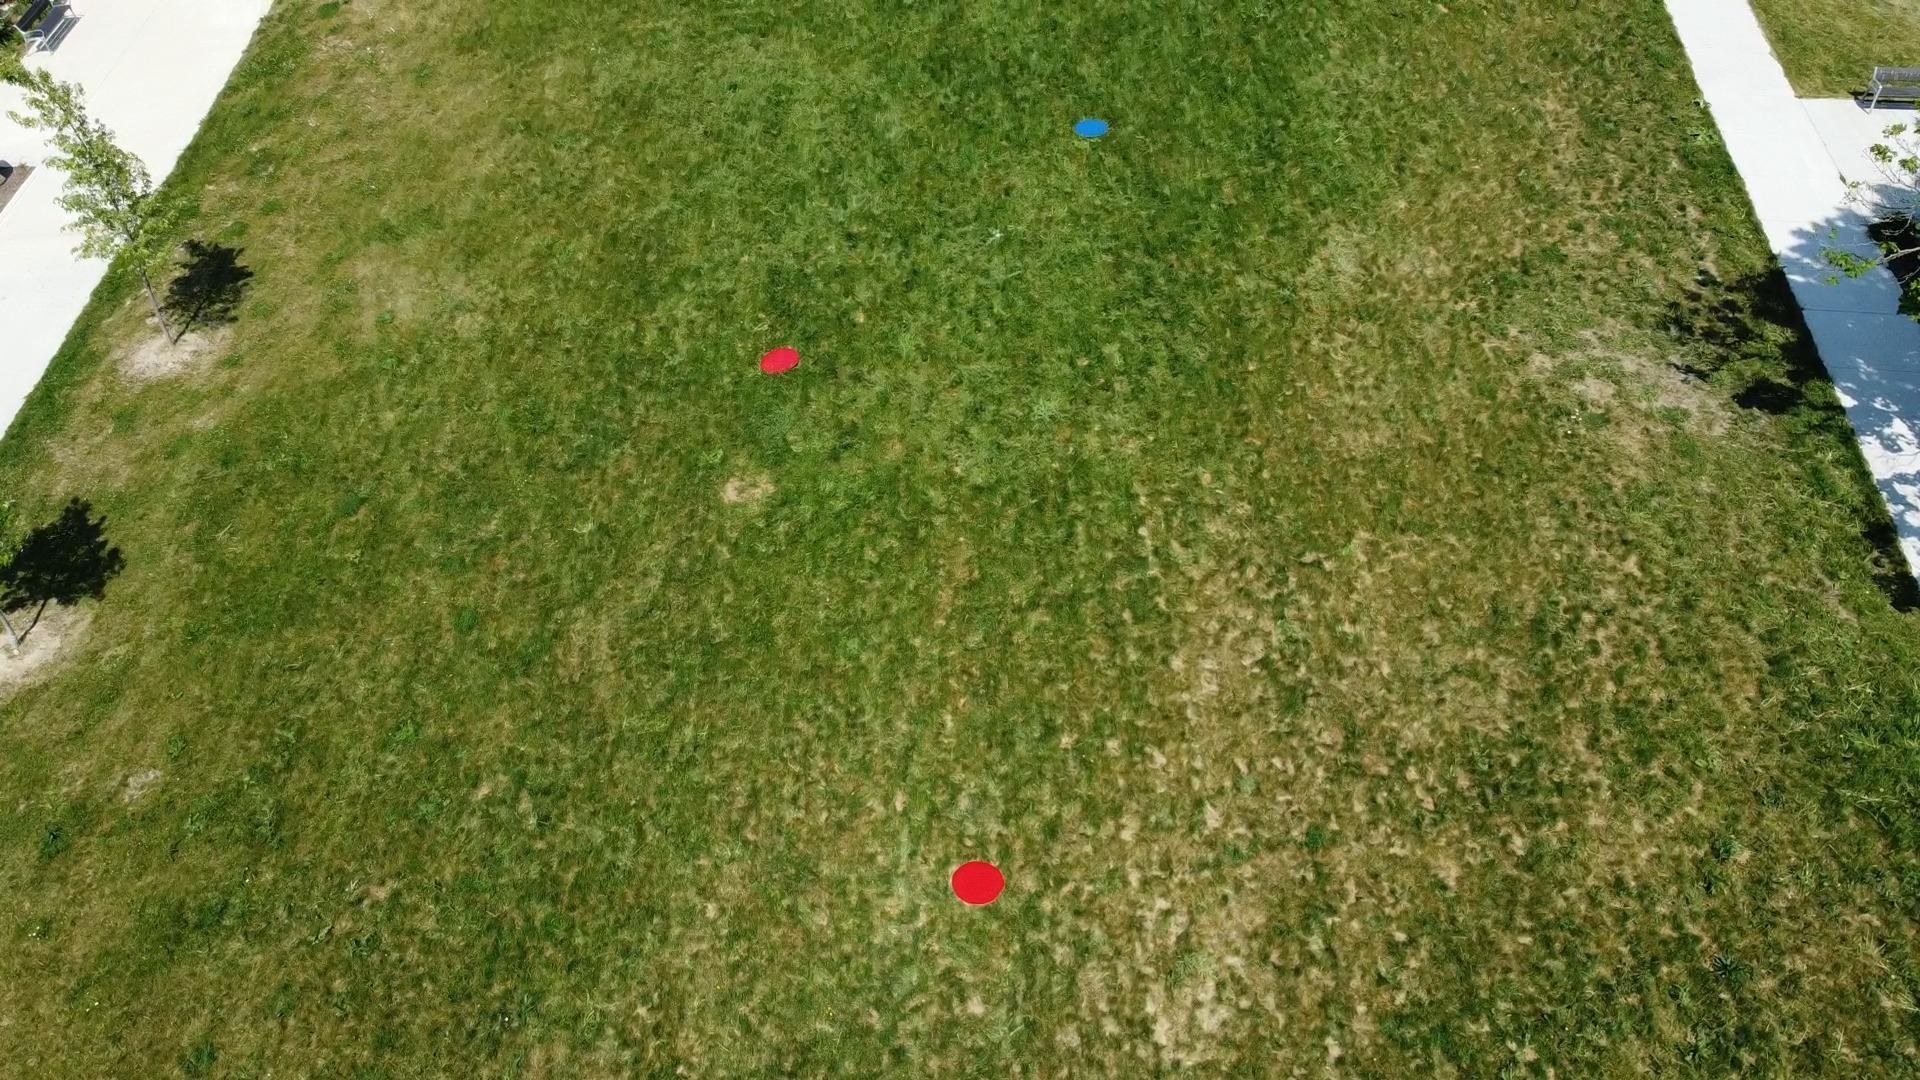Blue: (1071, 116, 1112, 140)
Red: (948, 858, 1006, 909), (757, 347, 803, 378)
